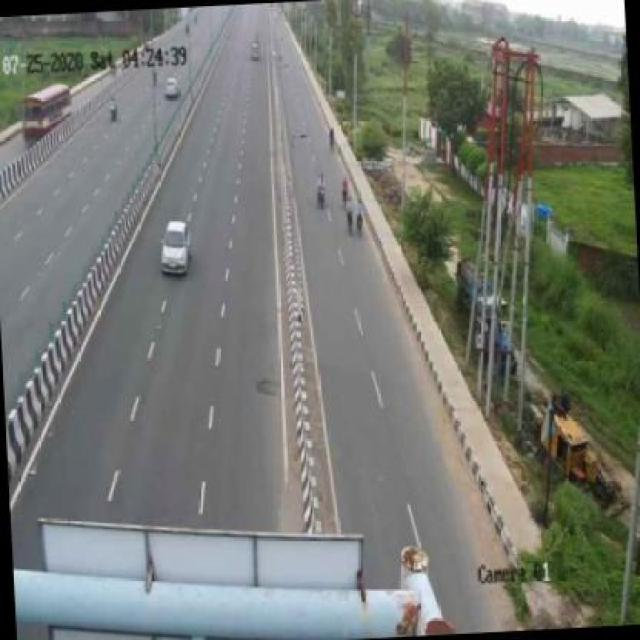car: (158, 218, 194, 277), (159, 74, 183, 101)
